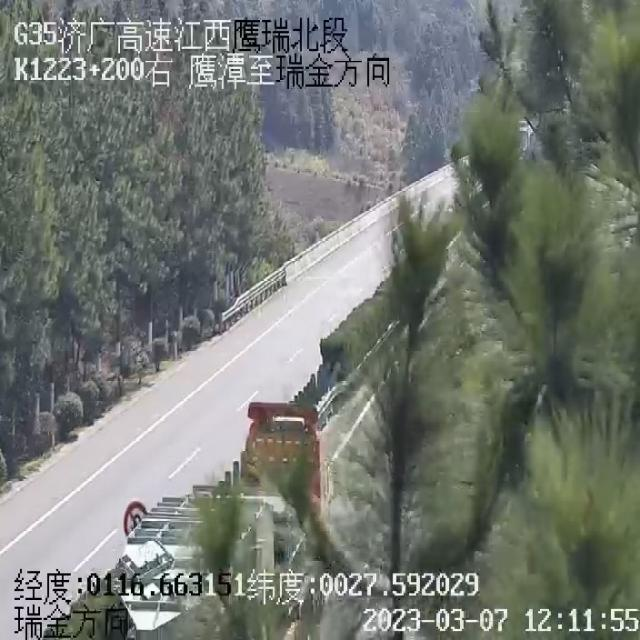cover: (354, 368, 411, 444), (438, 142, 491, 208), (386, 186, 434, 250)
